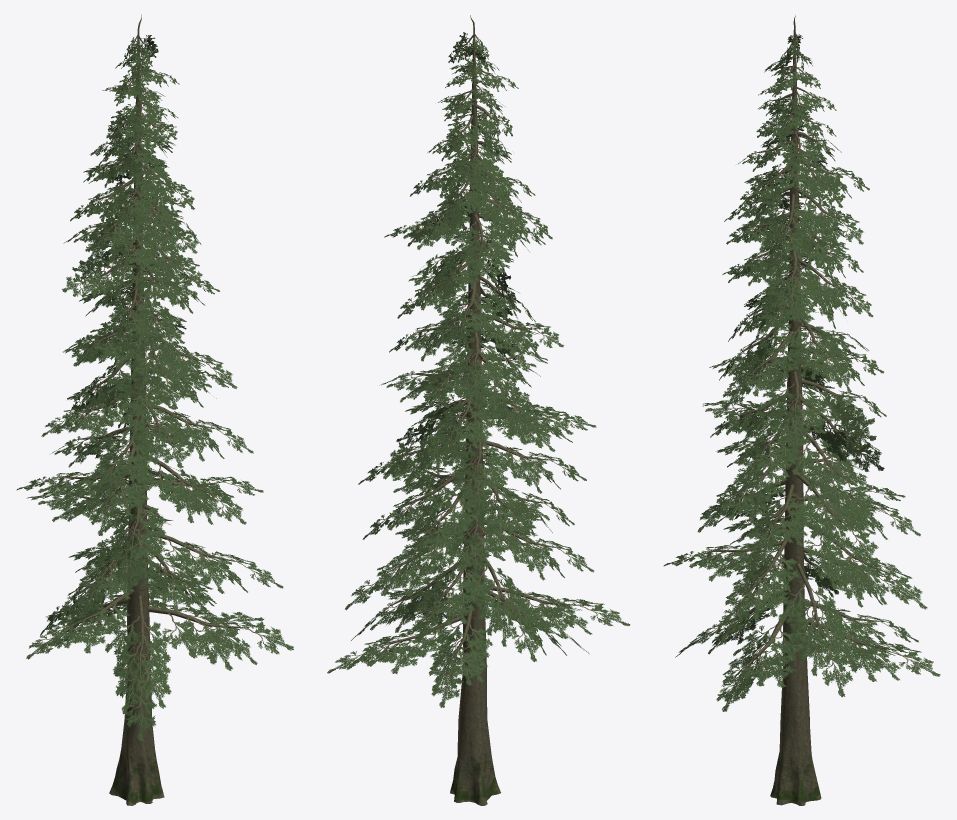
The model's file is Fir_Tree.fbx.
3 views of the same model, side by side, from view 1: azimuth 30°, elevation 25°; view 2: azimuth 150°, elevation 25°; view 3: azimuth 270°, elevation 25° (orthographic).
Visible parts, largest first — view 1: Fir_Tree1, Ast2_9, Ast2_5, Ast2_13, Ast2_4, Ast2_12, Ast2_1, Ast2_10, Ast2_32, Ast2_2, Ast2_24, Ast2_21 (+33 smaller); view 2: Fir_Tree1, Ast2_6, Ast2_7, Ast2_19, Ast2_22, Ast2_15, Ast2_34, Ast2_11, Ast2_27, Ast2_4, Ast2_8, Ast2_39 (+32 smaller); view 3: Fir_Tree1, Ast2_3, Ast2_5, Ast2_10, Ast2_8, Ast2_16, Ast2_26, Ast2_31, Ast2_28, Ast2_11, Ast2_25, Ast2_36 (+31 smaller).
Boxes of the visible parts, <box> form: Fir_Tree1: <box>109,14,164,805</box>; Ast2_9: <box>105,595,171,741</box>; Ast2_5: <box>148,606,293,670</box>; Ast2_13: <box>103,490,166,592</box>; Ast2_4: <box>26,589,134,659</box>; Ast2_12: <box>144,455,246,524</box>; Ast2_1: <box>129,544,212,612</box>; Ast2_10: <box>147,529,283,593</box>; Ast2_32: <box>117,333,190,409</box>; Ast2_2: <box>74,525,147,618</box>; Ast2_24: <box>90,445,155,535</box>; Ast2_21: <box>120,401,194,468</box>; Fir_Tree1: <box>450,15,500,805</box>; Ast2_6: <box>429,605,492,707</box>; Ast2_7: <box>462,552,542,661</box>; Ast2_19: <box>412,551,484,642</box>; Ast2_22: <box>443,430,508,516</box>; Ast2_15: <box>398,480,478,573</box>; Ast2_34: <box>440,327,506,406</box>; Ast2_11: <box>327,615,463,673</box>; Ast2_27: <box>432,394,495,466</box>; Ast2_4: <box>486,584,630,638</box>; Ast2_8: <box>345,521,464,610</box>; Ast2_39: <box>434,282,501,350</box>; Fir_Tree1: <box>770,15,821,805</box>; Ast2_3: <box>777,563,856,697</box>; Ast2_5: <box>716,609,803,711</box>; Ast2_10: <box>717,535,799,641</box>; Ast2_8: <box>804,521,927,609</box>; Ast2_16: <box>788,472,878,563</box>; Ast2_26: <box>787,427,873,516</box>; Ast2_31: <box>800,394,884,471</box>; Ast2_28: <box>760,371,826,453</box>; Ast2_11: <box>805,619,940,681</box>; Ast2_25: <box>733,404,806,496</box>; Ast2_36: <box>777,318,851,382</box>.
Bounding box in the file's own units: 269 × 774 × 252.
3 materials, 3 textured.
